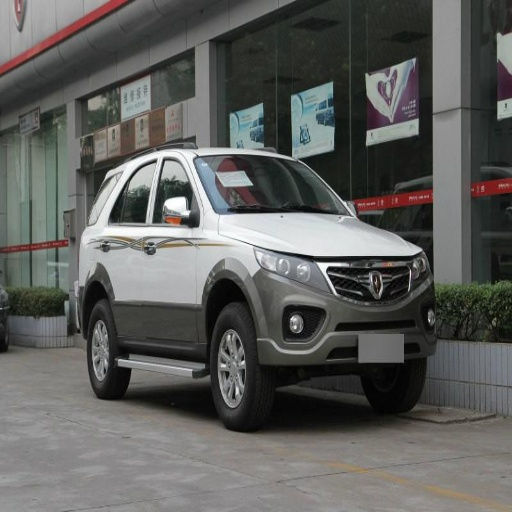front_bumper: (252, 255, 436, 370)
front_right_door: (144, 153, 199, 343)
front_right_light: (257, 250, 313, 285)
